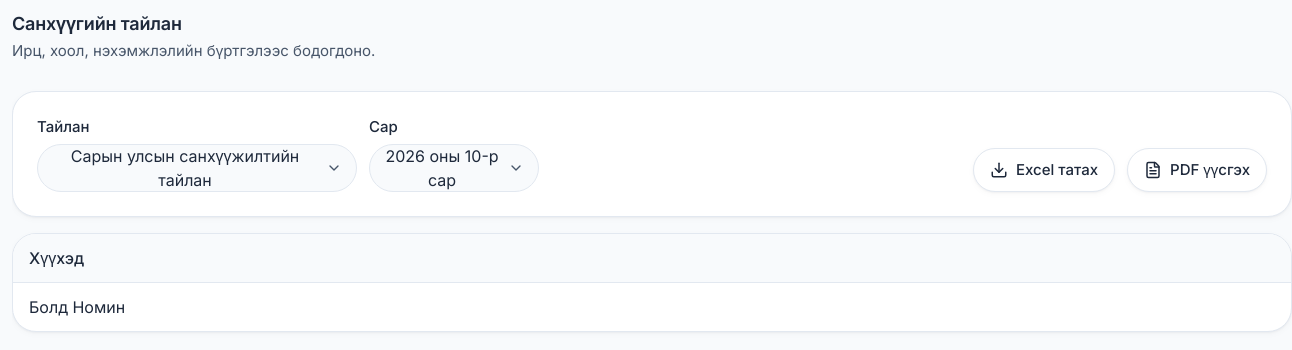
the PDF export › offers a retry rather than a dead spinner when the job fails
Click the button "PDF үүсгэх".
click(1197, 170)  # box [1127,148,1267,192]
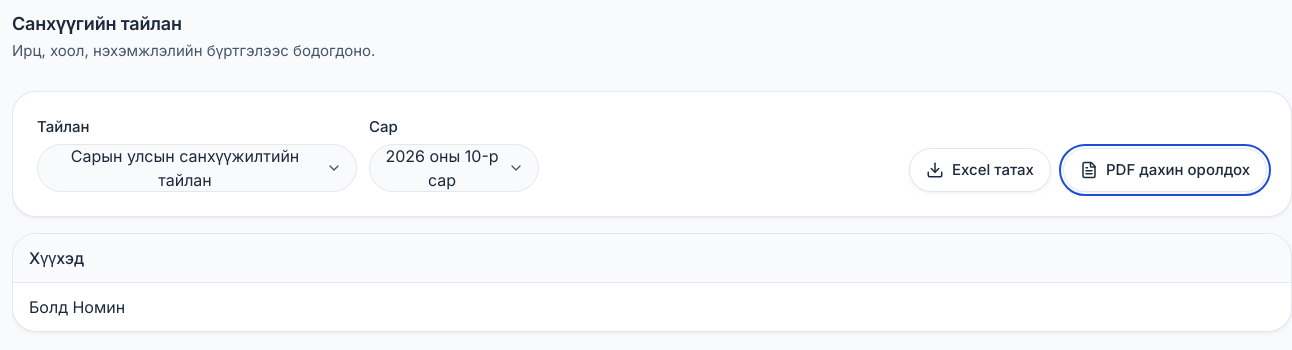
Now the button "PDF дахин оролдох" is shown, box [1063,148,1267,192]
